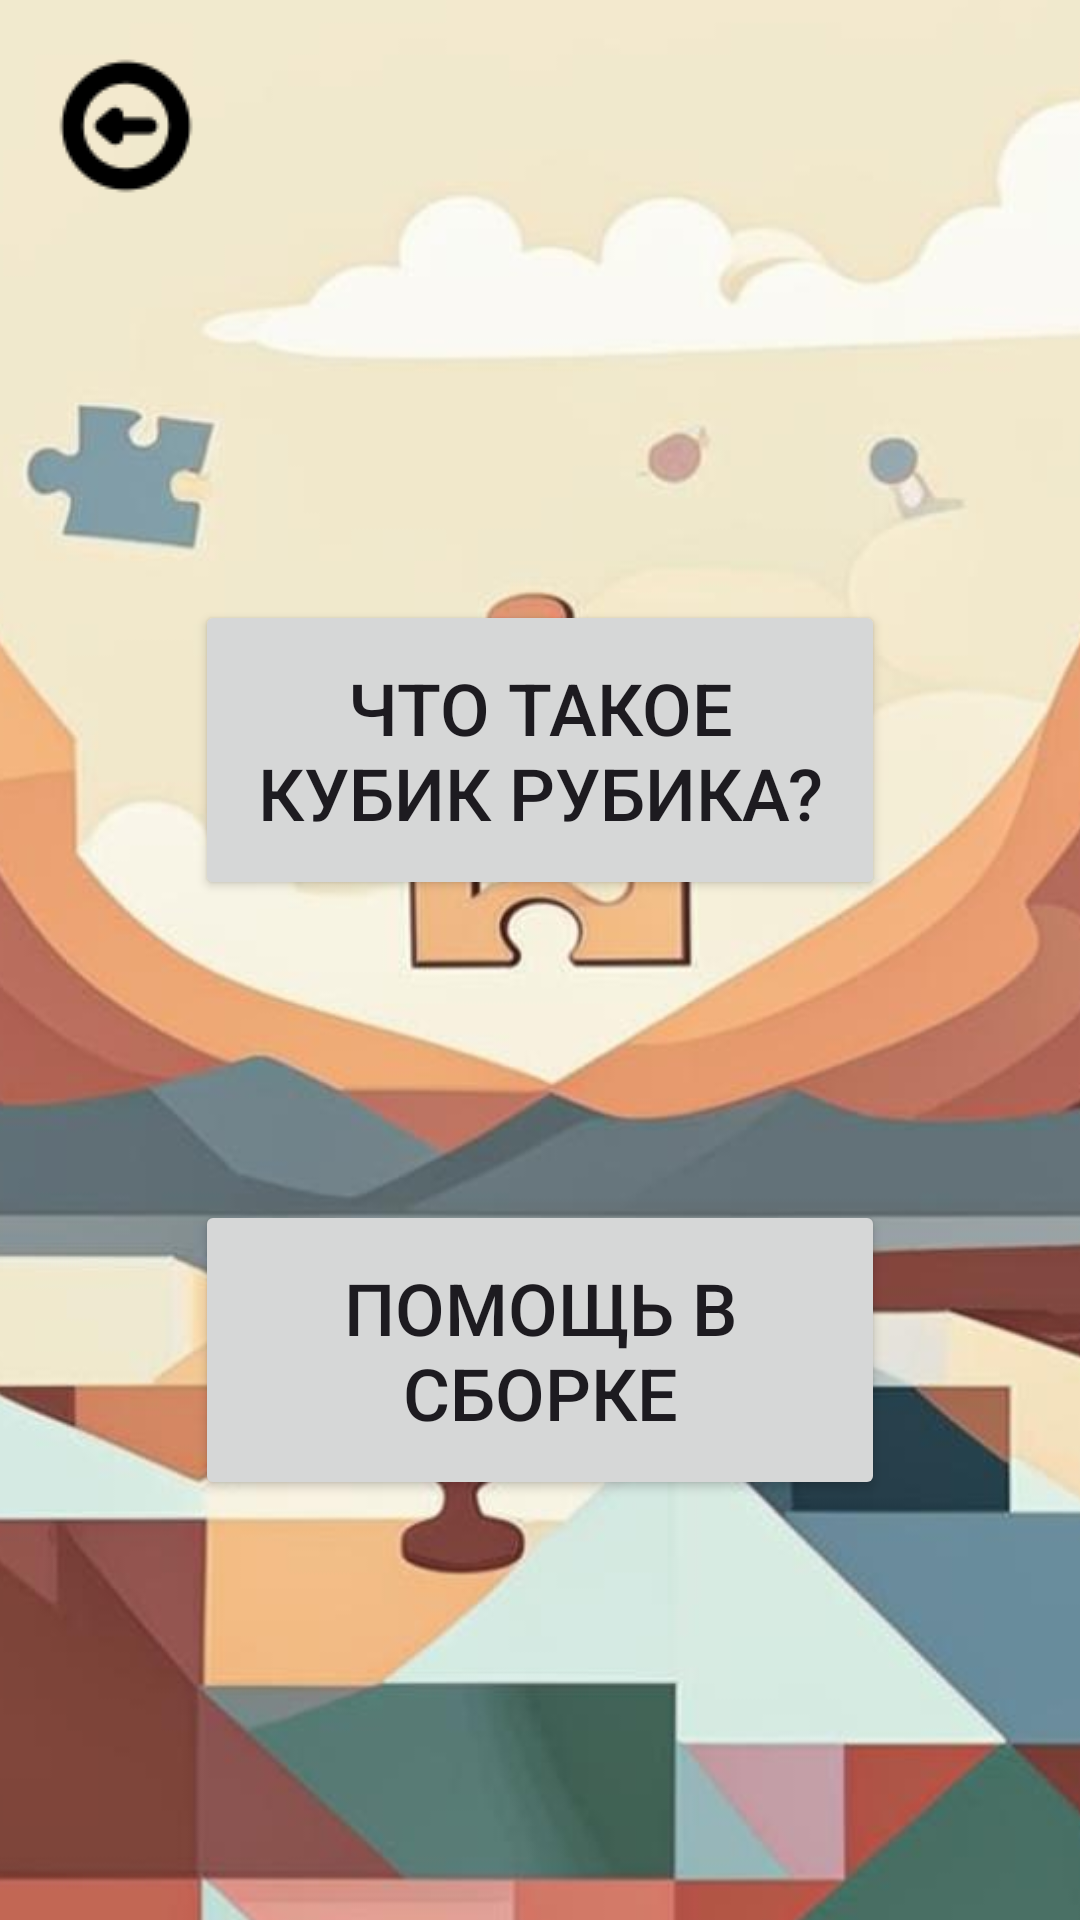

Icons on this 1080×1920 Android screen, each with the point to tap as point (x, y):
back: point (126, 126)
